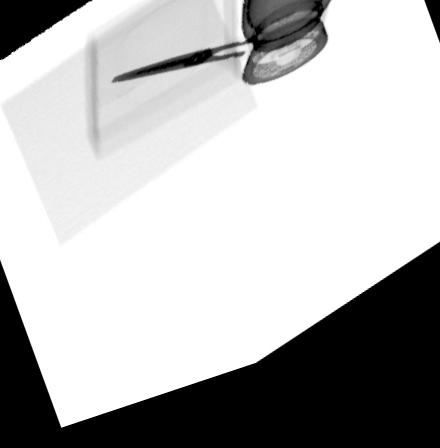Scissors: (110, 22, 312, 102)
